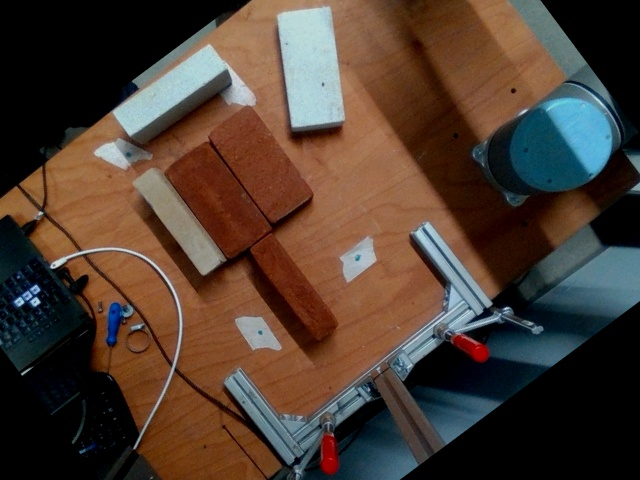brick: (164, 141, 270, 259), (208, 106, 312, 222), (277, 8, 343, 127)
brick-side: (113, 45, 225, 137), (133, 168, 221, 275), (249, 234, 337, 341)
